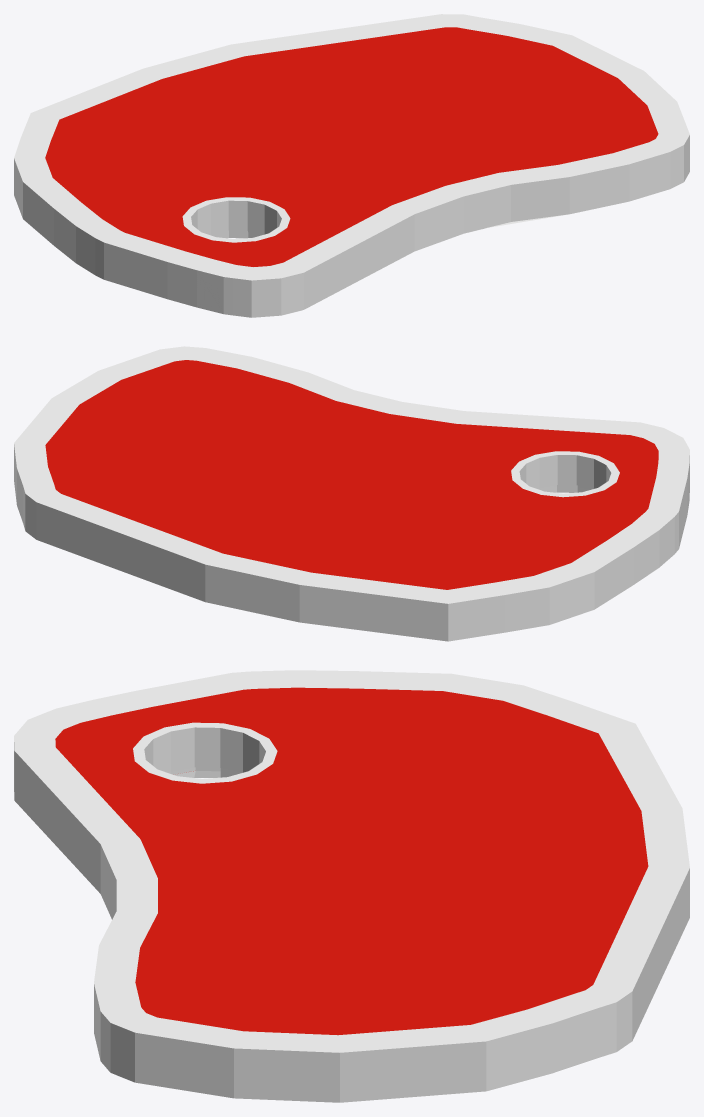
Rendered from rawbeef.fbx.
3 views of the same model, one above another, from view 1: azimuth 30°, elevation 25°; view 2: azimuth 150°, elevation 25°; view 3: azimuth 270°, elevation 25° (orthographic). The views are drawn at different scales.
Parts seen in each view (by area): view 1: Cube; view 2: Cube; view 3: Cube.
Part boxes in pixels (<box>): Cube: <box>14,14,689,317</box>; Cube: <box>14,346,689,641</box>; Cube: <box>14,670,689,1102</box>.
Bounding box in the file's own units: 286 × 17.86 × 214.
